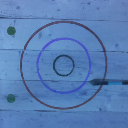Axe Tip: (89, 80, 104, 83)
